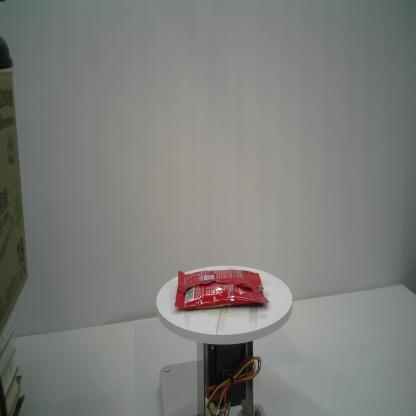Instant Drink: (174, 266, 270, 312)
